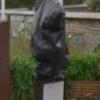Statue: (21, 2, 82, 83)
